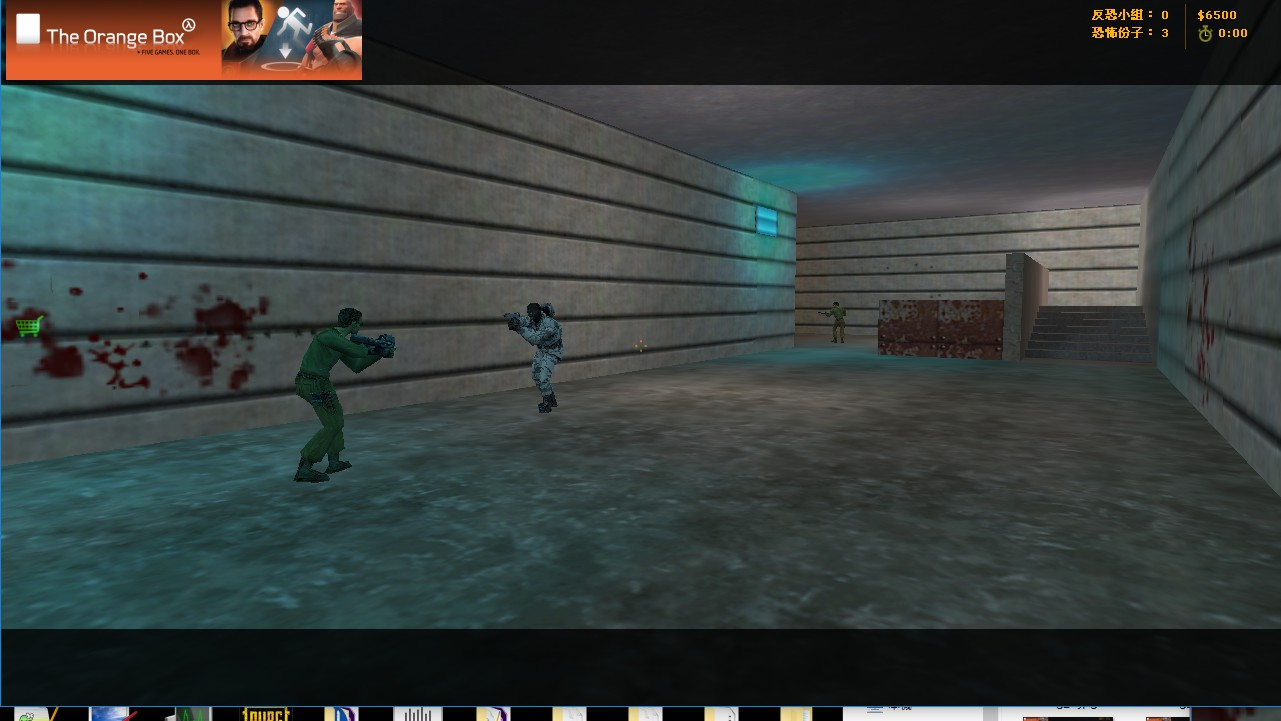person: (289, 300, 394, 495), (501, 286, 567, 426), (822, 299, 850, 345)
